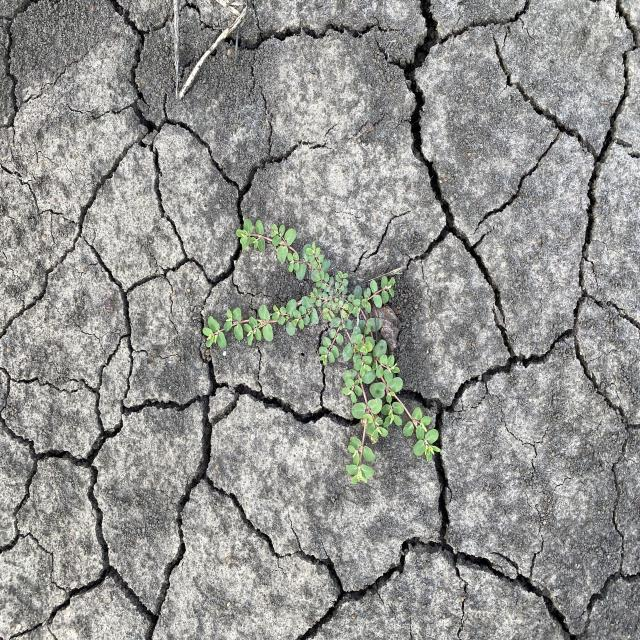SpottedSpurge: (201, 217, 443, 486)
